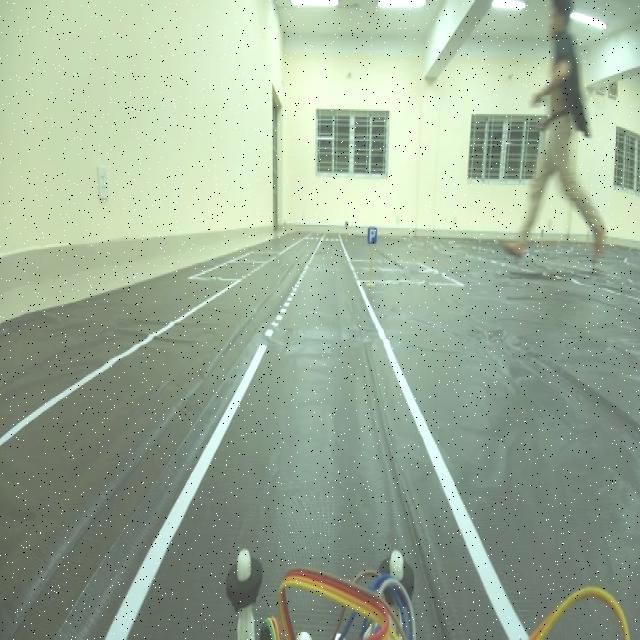parking: (364, 215, 382, 249)
